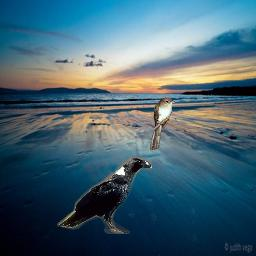Crow: (57, 157, 152, 234)
Cuckoo: (150, 97, 175, 150)
